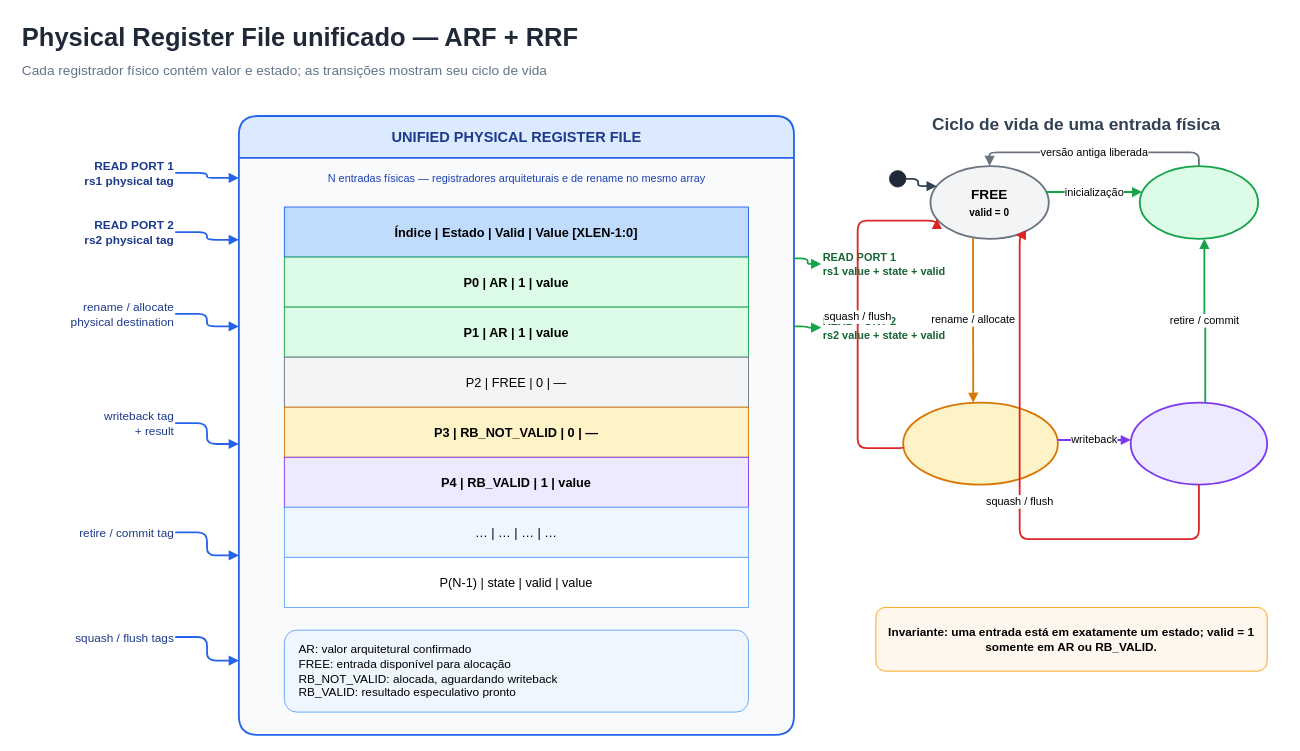
This 1300x751 diagram has some shape labels left out. The shapes that lost their labels are listed below. From the top down, each one's centre as x and y in pixels, then its label:
At [1198,202]: "AR valid = 1".
At [980,443]: "RB_NOT_VALID valid = 0".
At [1198,443]: "RB_VALID valid = 1".
